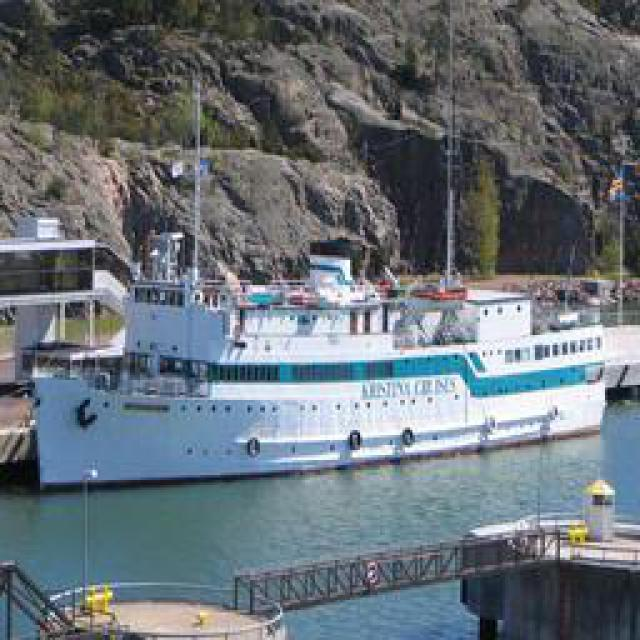Ship: (13, 258, 628, 476)
